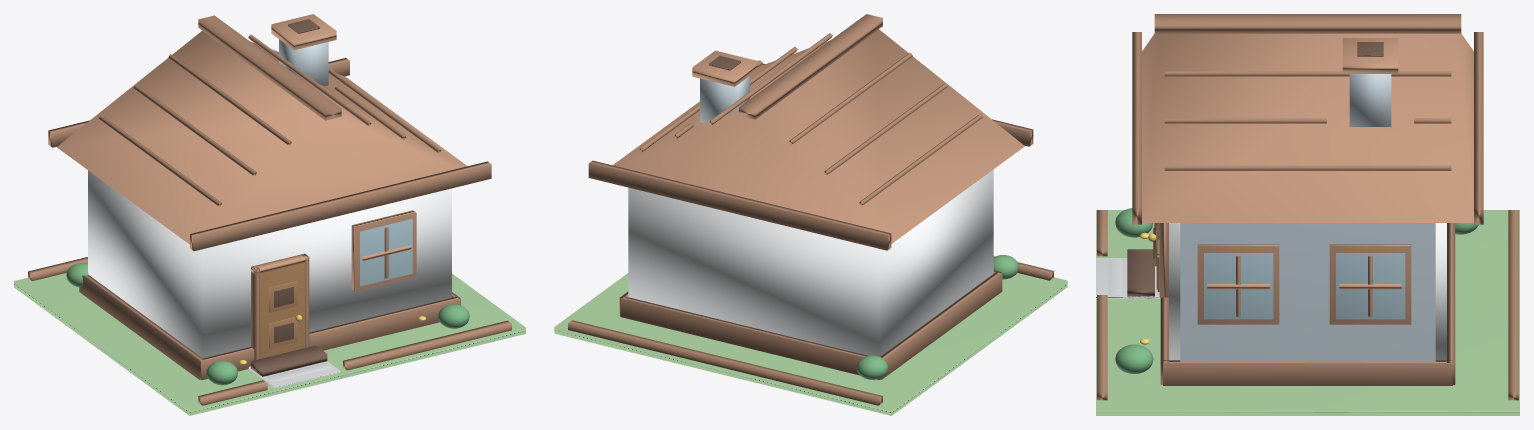
File: casa_detallada_brown.glb
The picture shows the model from 3 angles, left to right: view 1: azimuth 30°, elevation 25°; view 2: azimuth 150°, elevation 25°; view 3: azimuth 270°, elevation 25°; orthographic projection. The views are drawn at different scales.
Visible parts, largest first — view 1: Casa_Techo_Rojo_Detallado, Casa_Paredes_Suaves, Casa_Grama_Base_Redondeada, Casa_Techo_Fascia_Frontal, Casa_Zocalo_Frontal_Rojo, Casa_Techo_Cumbrera_Roja, Casa_Zocalo_Izquierdo_Rojo, Ventana_Frontal_Principal_Cristal, Puerta_Cuerpo_Madera, Casa_Borde_Base_Frontal_Derecho, Ventana_Frontal_Principal_Marco_Azul, Casa_Chimenea_Cuerpo (+17 smaller); view 2: Casa_Techo_Rojo_Detallado, Casa_Paredes_Suaves, Casa_Grama_Base_Redondeada, Casa_Techo_Fascia_Trasero, Casa_Zocalo_Trasero_Rojo, Casa_Borde_Base_Trasero, Casa_Techo_Cumbrera_Roja, Casa_Zocalo_Izquierdo_Rojo, Casa_Chimenea_Cuerpo, Casa_Chimenea_Tapa_Roja, Casa_Techo_Linea_Teja_Der_1, Casa_Techo_Linea_Teja_Izq_2 (+5 smaller); view 3: Casa_Techo_Rojo_Detallado, Casa_Grama_Base_Redondeada, Casa_Pared_Lateral_Azulada, Casa_Zocalo_Derecho_Rojo, Casa_Techo_Cumbrera_Roja, Ventana_Lateral_Frontal_Cristal, Ventana_Lateral_Trasera_Cristal, Casa_Paredes_Suaves, Casa_Chimenea_Cuerpo, Ventana_Lateral_Frontal_Marco_Azul, Ventana_Lateral_Trasera_Marco_Azul, Casa_Borde_Base_Trasero (+17 smaller).
Boxes of the visible parts, x1,y1,x2,y2 form: Casa_Techo_Rojo_Detallado: [57, 30, 467, 244]; Casa_Paredes_Suaves: [88, 170, 451, 358]; Casa_Grama_Base_Redondeada: [14, 273, 525, 415]; Casa_Techo_Fascia_Frontal: [190, 161, 491, 251]; Casa_Zocalo_Frontal_Rojo: [200, 296, 459, 380]; Casa_Techo_Cumbrera_Roja: [198, 15, 341, 120]; Casa_Zocalo_Izquierdo_Rojo: [79, 275, 204, 379]; Ventana_Frontal_Principal_Cristal: [360, 219, 412, 286]; Puerta_Cuerpo_Madera: [260, 262, 305, 358]; Casa_Borde_Base_Frontal_Derecho: [343, 320, 511, 370]; Ventana_Frontal_Principal_Marco_Azul: [351, 210, 416, 291]; Casa_Chimenea_Cuerpo: [279, 39, 328, 86]; Casa_Techo_Rojo_Detallado: [613, 29, 1024, 243]; Casa_Paredes_Suaves: [628, 169, 993, 356]; Casa_Grama_Base_Redondeada: [554, 273, 1067, 415]; Casa_Techo_Fascia_Trasero: [588, 160, 891, 250]; Casa_Zocalo_Trasero_Rojo: [620, 296, 879, 379]; Casa_Borde_Base_Trasero: [568, 320, 882, 405]; Casa_Techo_Cumbrera_Roja: [739, 14, 882, 119]; Casa_Zocalo_Izquierdo_Rojo: [880, 272, 1002, 379]; Casa_Chimenea_Cuerpo: [700, 76, 749, 122]; Casa_Chimenea_Tapa_Roja: [692, 50, 757, 86]; Casa_Techo_Linea_Teja_Der_1: [709, 33, 832, 124]; Casa_Techo_Linea_Teja_Izq_2: [824, 83, 947, 174]; Casa_Techo_Rojo_Detallado: [1142, 33, 1473, 222]; Casa_Grama_Base_Redondeada: [1096, 210, 1519, 415]; Casa_Pared_Lateral_Azulada: [1180, 223, 1435, 361]; Casa_Zocalo_Derecho_Rojo: [1163, 360, 1452, 385]; Casa_Techo_Cumbrera_Roja: [1154, 14, 1461, 33]; Ventana_Lateral_Frontal_Cristal: [1204, 253, 1273, 319]; Ventana_Lateral_Trasera_Cristal: [1336, 253, 1405, 319]; Casa_Paredes_Suaves: [1169, 223, 1446, 360]; Casa_Chimenea_Cuerpo: [1349, 74, 1391, 126]; Ventana_Lateral_Frontal_Marco_Azul: [1197, 244, 1279, 324]; Ventana_Lateral_Trasera_Marco_Azul: [1329, 244, 1411, 324]; Casa_Borde_Base_Trasero: [1508, 210, 1518, 400].
Size of the model in its own units: 1.35 by 0.9689 by 1.22.
